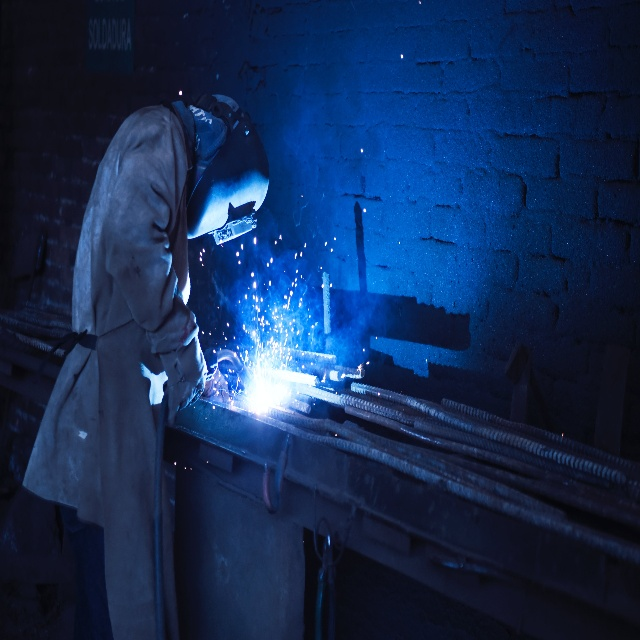Guantes: (159, 331, 207, 428), (204, 368, 229, 405)
